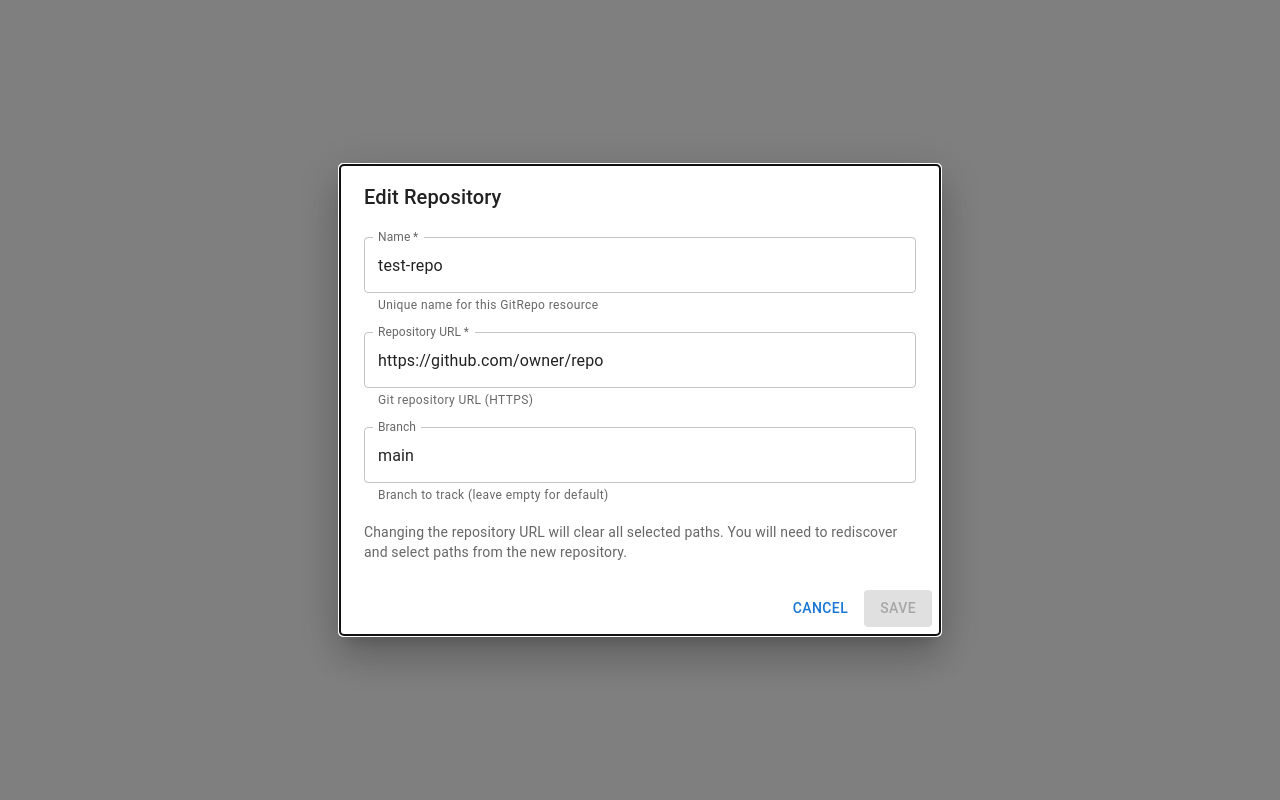
Test: EditRepoDialog › enables save button when changes are made
expect the button "Save" is disabled: met, box [864,590,932,627]
// Make a change
Replace the text in the field labelled "Name *" with "changed-name" at point(640, 265), box [364,237,916,293]
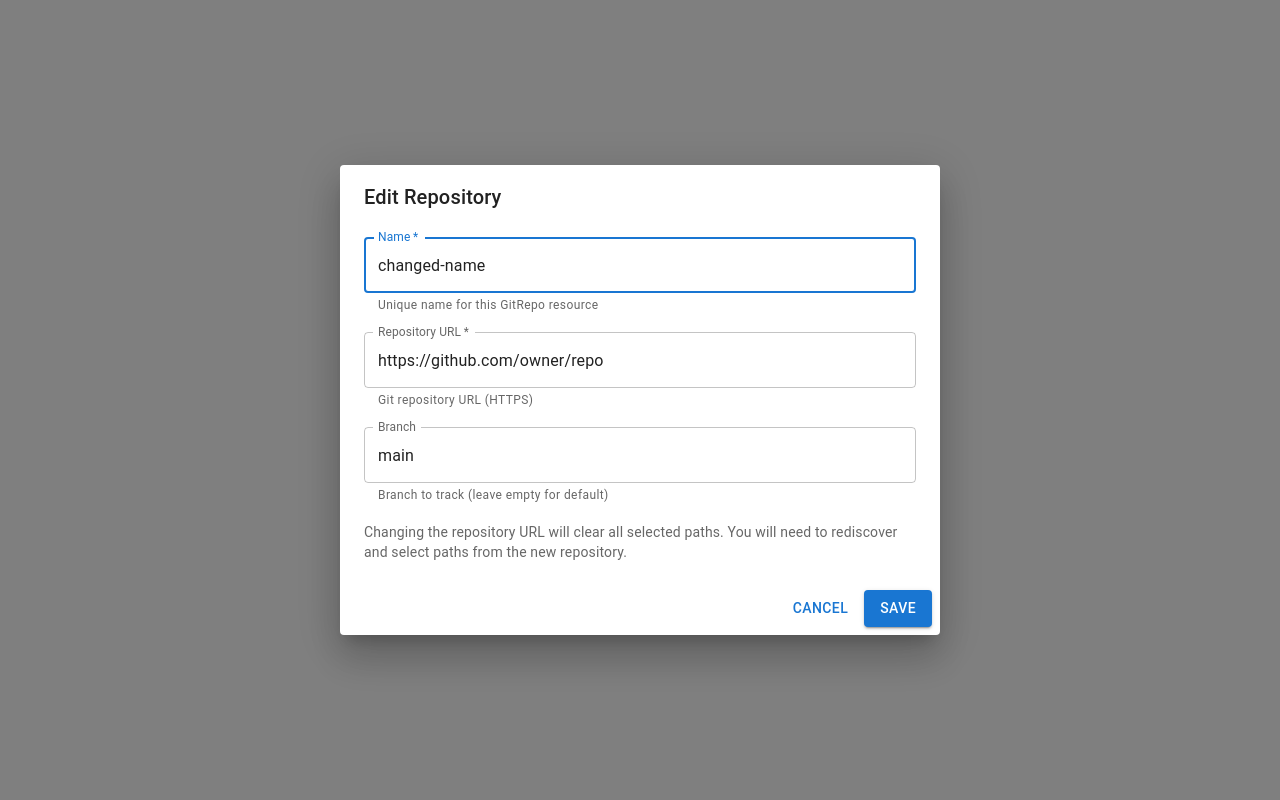
expect the button "Save" is enabled: met, box [864,590,932,627]
